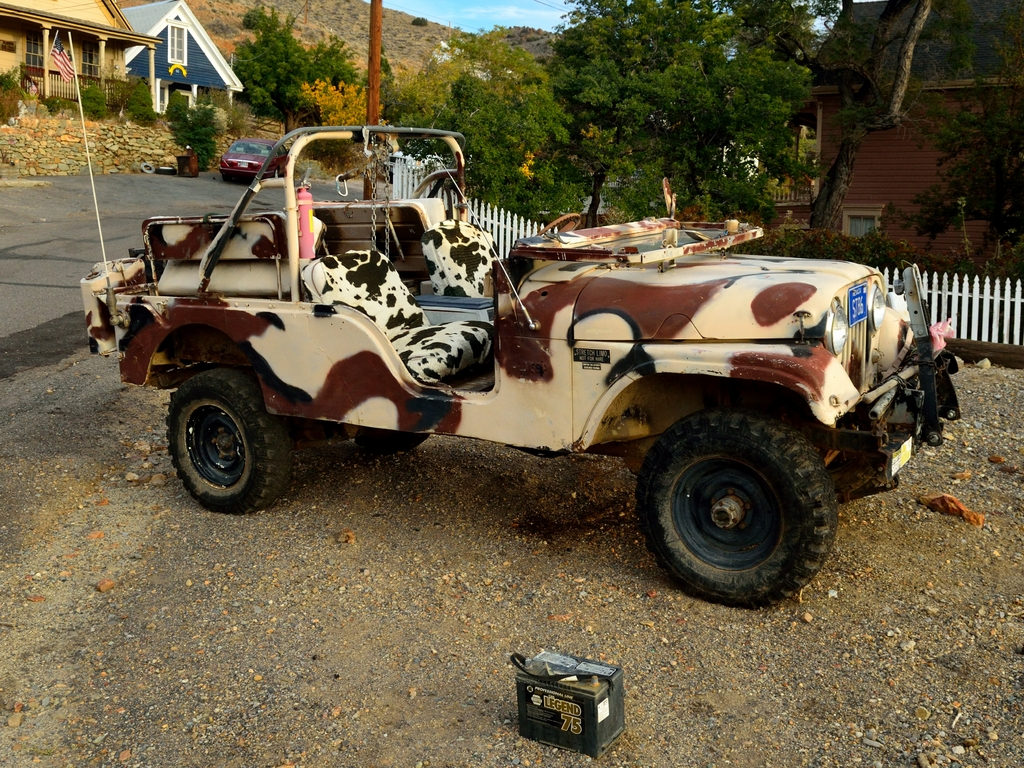Car: (99, 158, 907, 584), (218, 135, 289, 183)
